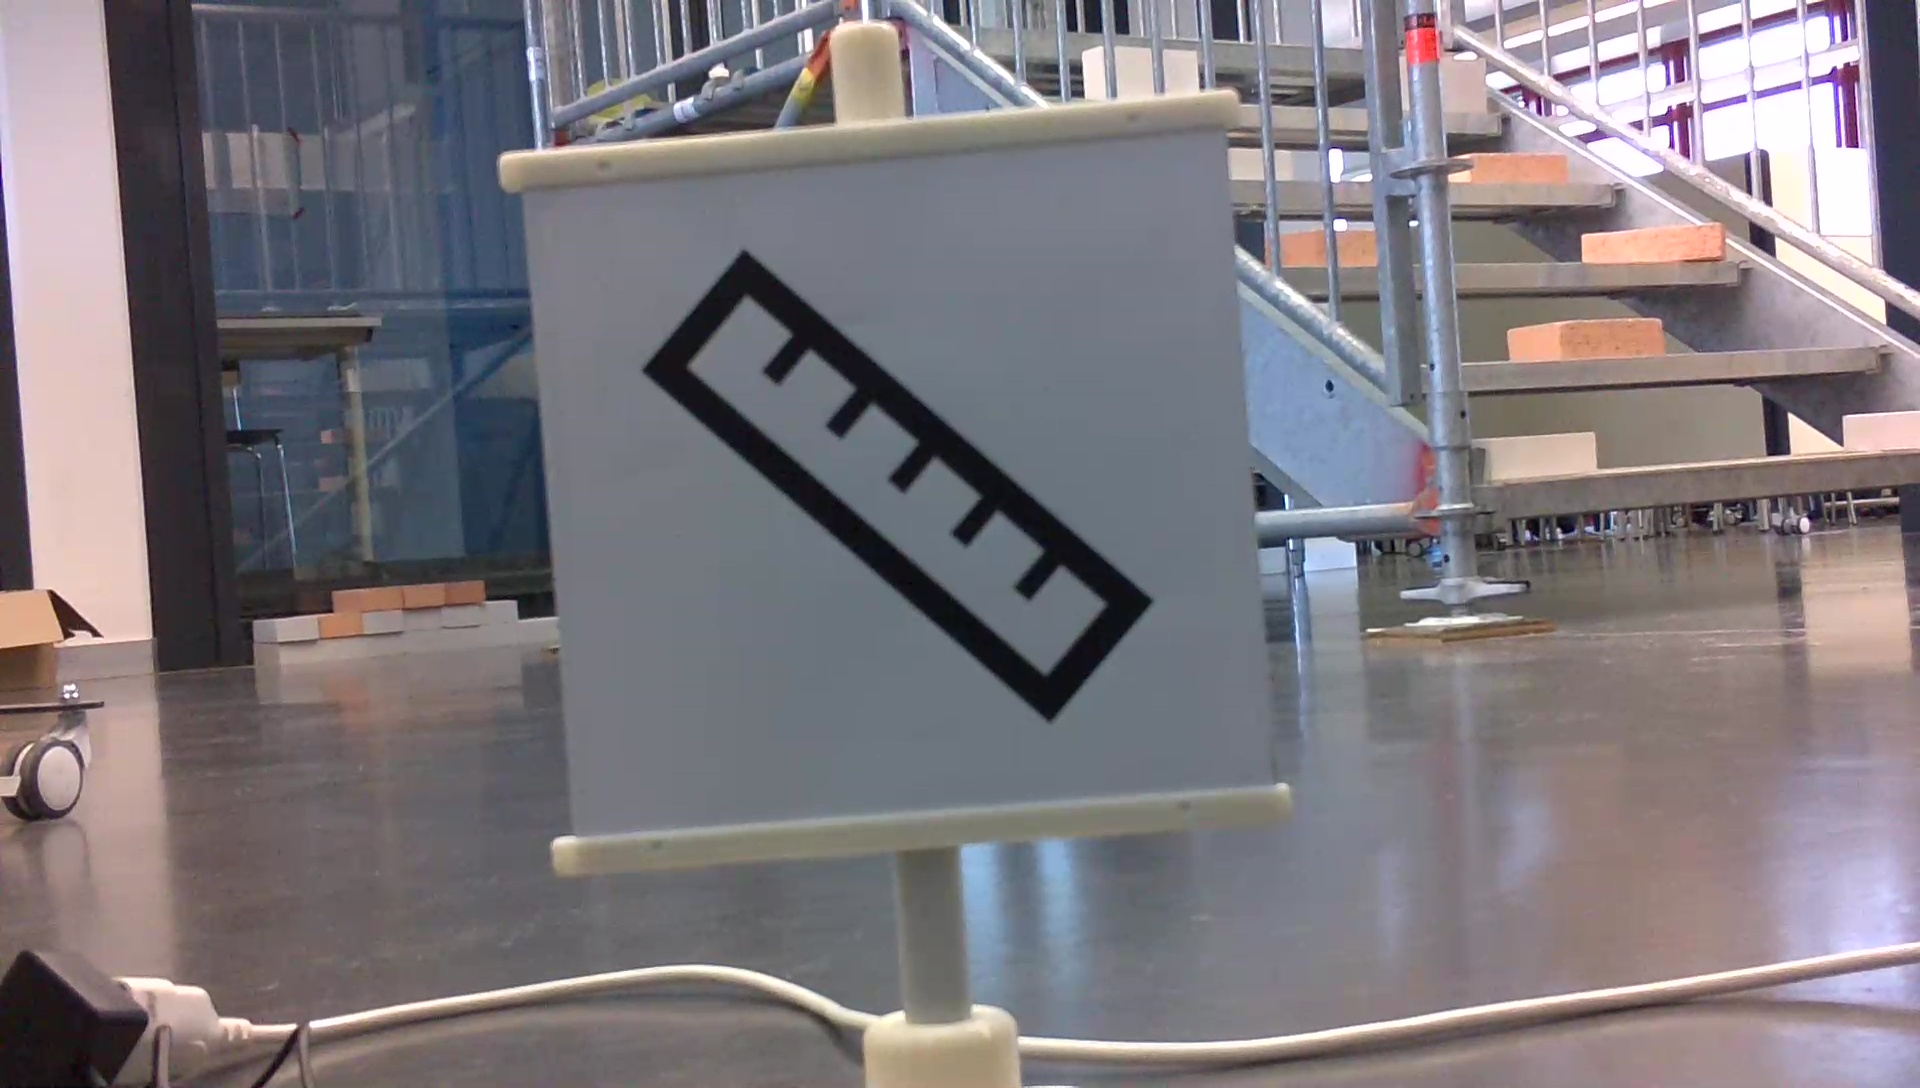brick: (1501, 315, 1663, 363), (1590, 223, 1717, 268), (1486, 430, 1600, 479), (1461, 146, 1573, 186), (1849, 408, 1920, 448)
edge: (1493, 448, 1920, 535), (1460, 339, 1886, 390), (1448, 261, 1750, 290)
ruler: (640, 237, 1180, 721)
